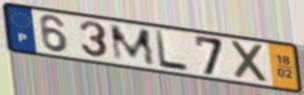3: (78, 20, 109, 60)
6: (37, 14, 70, 55)
7: (193, 33, 225, 78)
L: (153, 28, 191, 73)
M: (108, 24, 159, 67)
X: (228, 39, 271, 85)
